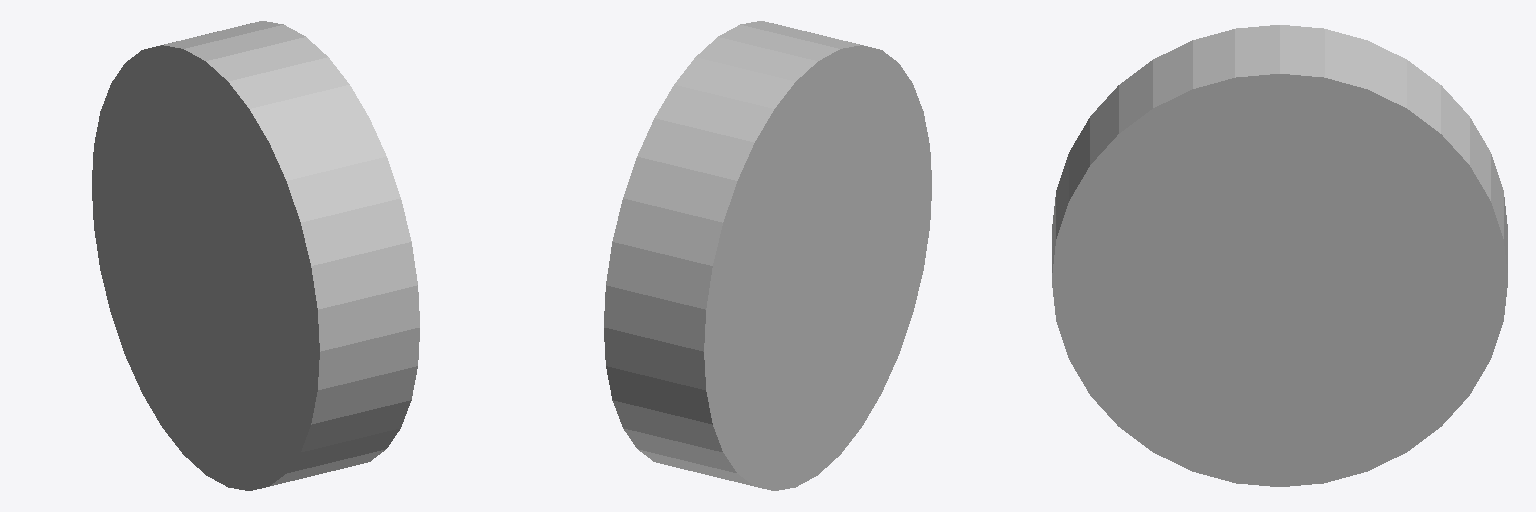
Rendered from reifen.obj.
3 renders of one model, left to right at view 1: azimuth 30°, elevation 25°; view 2: azimuth 150°, elevation 25°; view 3: azimuth 270°, elevation 25°, orthographic.
Parts seen in each view (by area): view 1: Cylinder; view 2: Cylinder; view 3: Cylinder.
Boxes of the visible parts, box(x1,y1,x2,y2) form: Cylinder: box(92, 21, 419, 490); Cylinder: box(604, 21, 931, 490); Cylinder: box(1052, 25, 1507, 486).
Bounding box in the file's own units: 0.135 × 0.5318 × 0.5318.